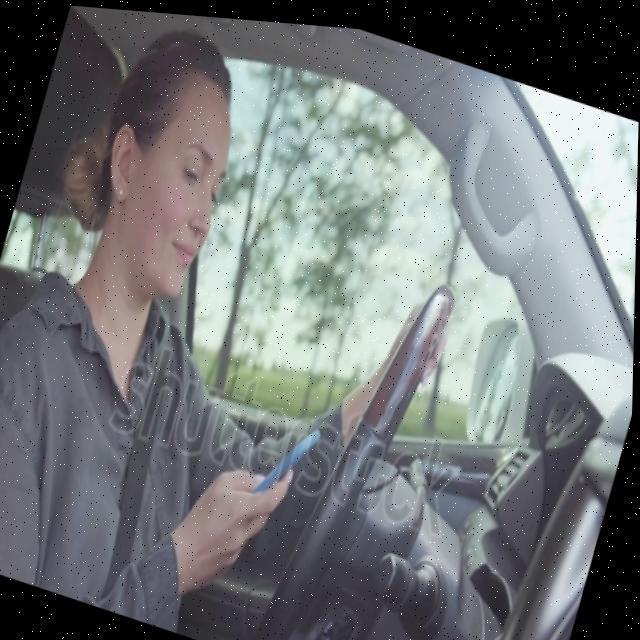PhoneCall: (245, 402, 326, 507)
